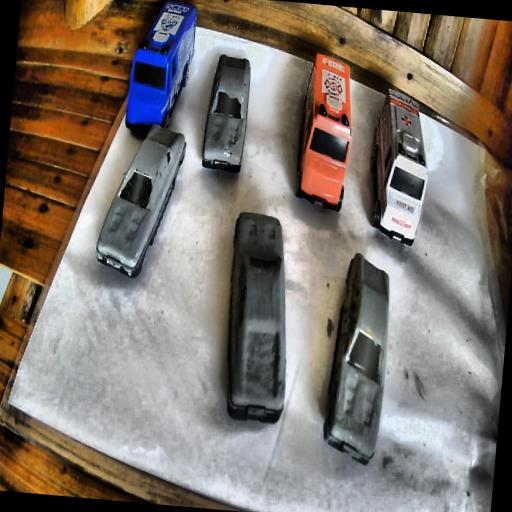ambulance: (366, 86, 436, 248)
fire_truck: (292, 51, 358, 210)
normal_car: (218, 213, 300, 424), (320, 254, 396, 466), (94, 119, 188, 283), (200, 54, 254, 176)
police car: (123, 0, 198, 138)
